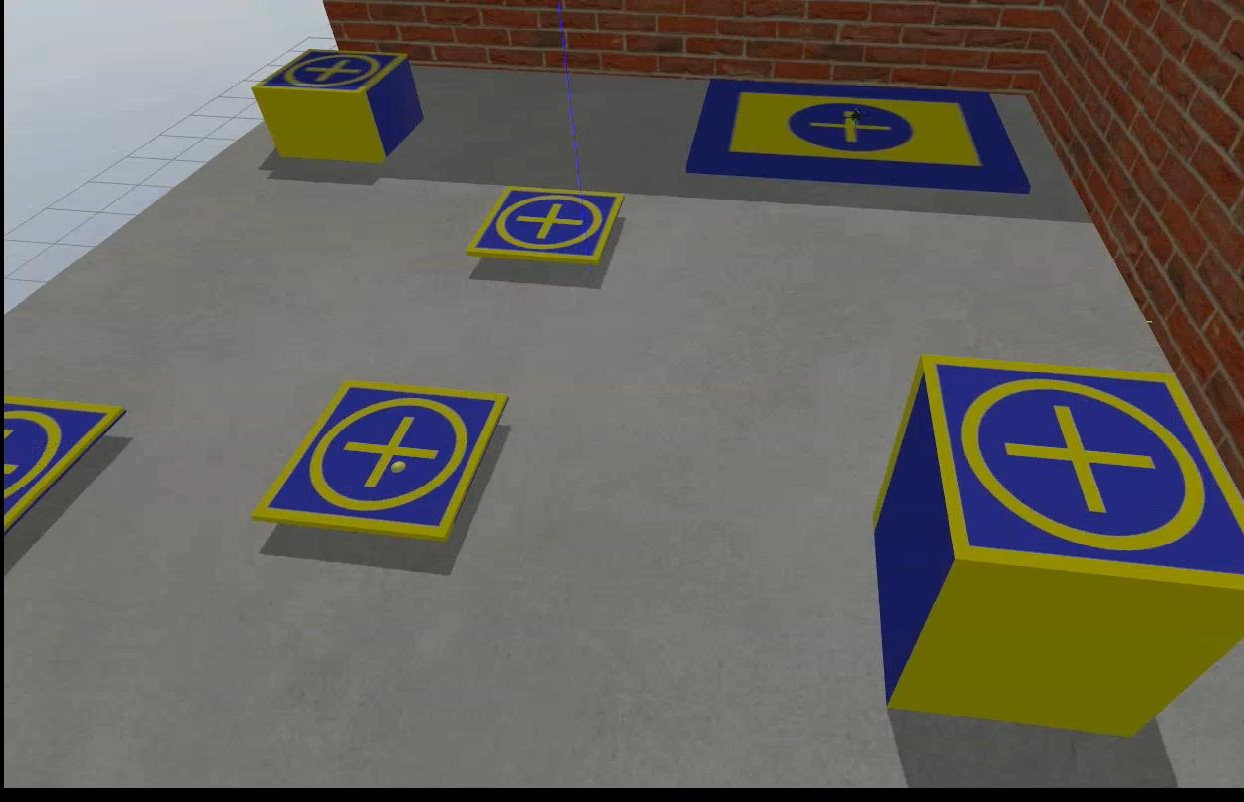large_base: (681, 77, 1029, 194)
small_base: (913, 355, 1242, 593), (246, 376, 511, 545), (0, 394, 129, 536), (464, 184, 623, 267), (251, 47, 407, 103)
